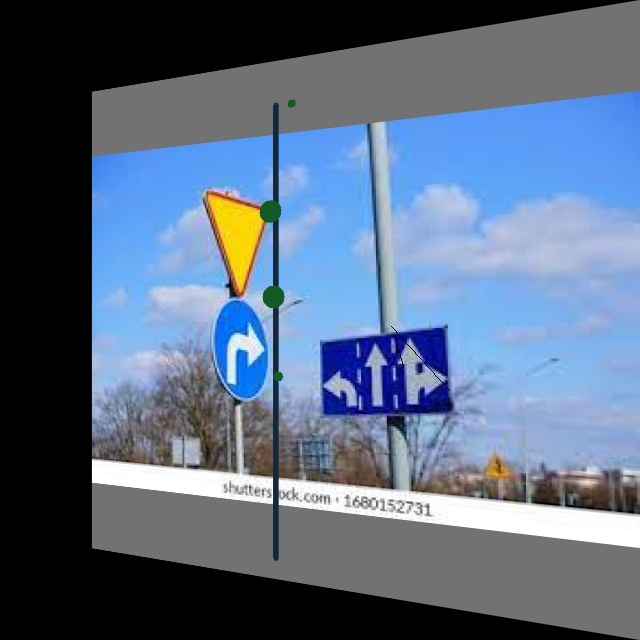Compulsory_Ahead_or_Turn_Right: (390, 319, 451, 424)
